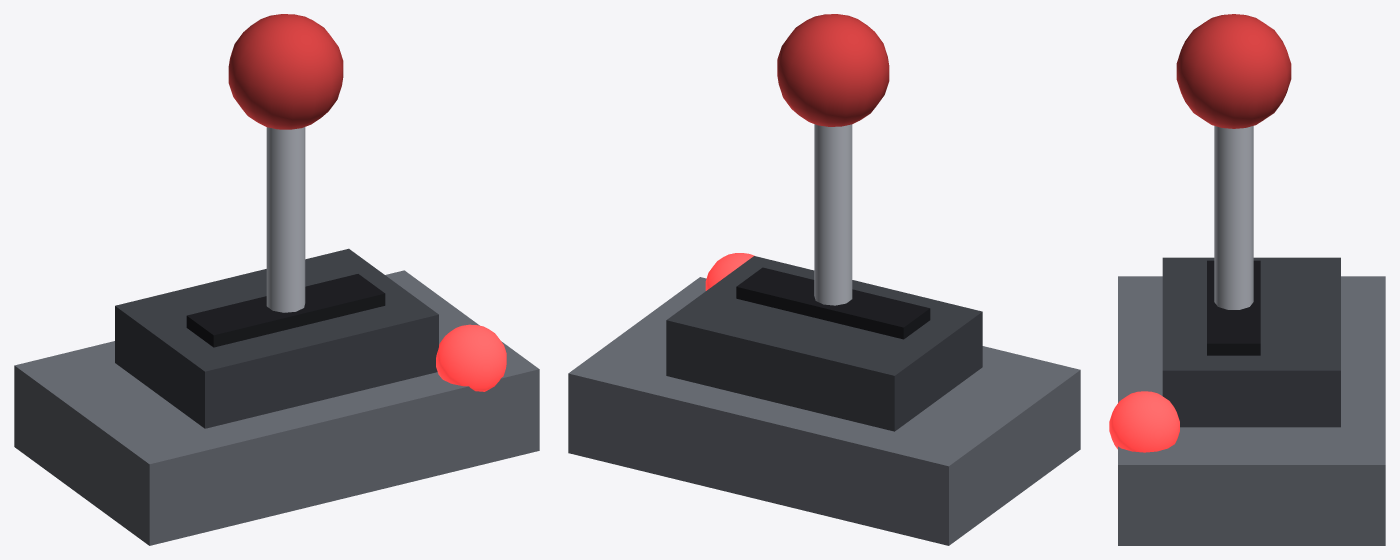
Rendered from levier.glb.
The picture shows the model from 3 angles, left to right: view 1: azimuth 30°, elevation 25°; view 2: azimuth 150°, elevation 25°; view 3: azimuth 270°, elevation 25°; orthographic projection. The views are drawn at different scales.
Parts seen in each view (by area): view 1: socle, cadre, poignee, tige, fente, voyant_off; view 2: socle, cadre, poignee, tige, fente, voyant_off; view 3: socle, cadre, poignee, tige, voyant_off, fente.
Part boxes in pixels (bbox=[...]): socle: bbox=[14, 270, 539, 545]; cadre: bbox=[115, 248, 438, 428]; poignee: bbox=[228, 14, 343, 129]; tige: bbox=[266, 127, 305, 312]; fente: bbox=[186, 274, 385, 347]; voyant_off: bbox=[436, 324, 506, 391]; socle: bbox=[568, 277, 1080, 545]; cadre: bbox=[666, 256, 982, 431]; poignee: bbox=[777, 14, 889, 126]; tige: bbox=[814, 124, 852, 305]; fente: bbox=[736, 267, 930, 339]; voyant_off: bbox=[705, 253, 754, 290]; socle: bbox=[1118, 276, 1385, 545]; cadre: bbox=[1162, 257, 1340, 427]; poignee: bbox=[1176, 14, 1291, 128]; tige: bbox=[1214, 126, 1253, 309]; voyant_off: bbox=[1109, 391, 1179, 452]; fente: bbox=[1207, 260, 1260, 355].
Bounding box in the file's own units: 0.65 × 0.6955 × 0.4025.
